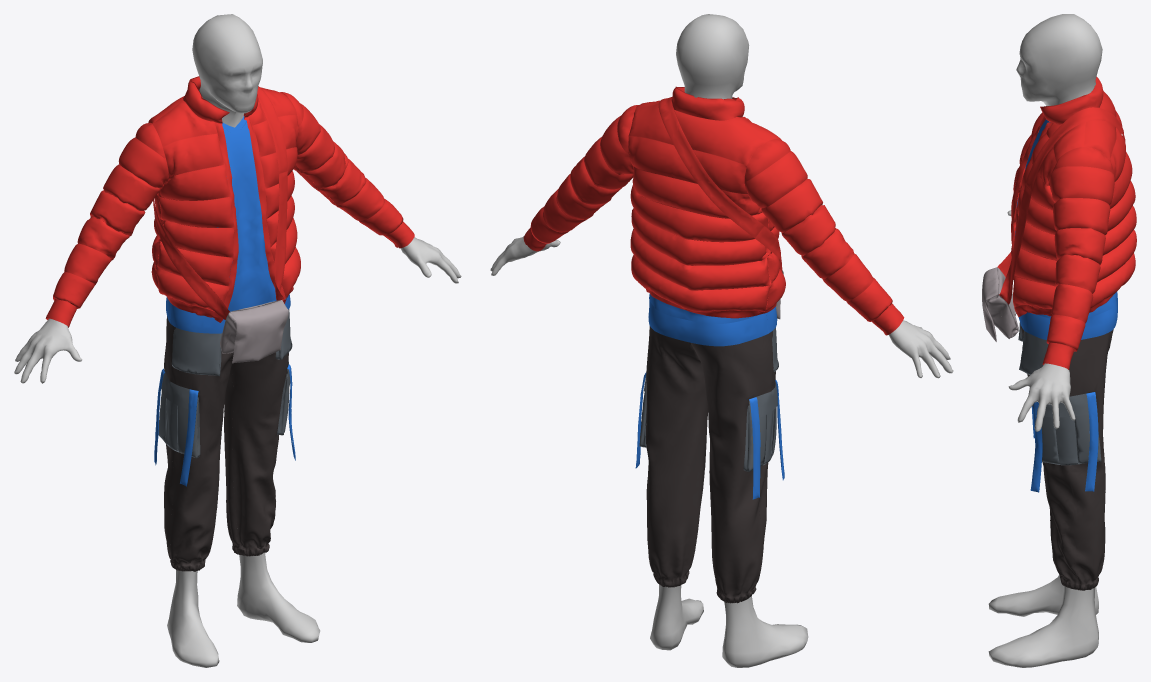
Rendered from final_studio_men.glb.
The picture shows the model from 3 angles, left to right: view 1: azimuth 30°, elevation 25°; view 2: azimuth 150°, elevation 25°; view 3: azimuth 270°, elevation 25°; orthographic projection. The views are drawn at different scales.
Visible parts, largest first — view 1: studio_men; view 2: studio_men; view 3: studio_men.
Part boxes in pixels (x1,y1,x2,y2): studio_men: [14, 14, 461, 667]; studio_men: [490, 14, 953, 667]; studio_men: [982, 14, 1136, 667].
Size of the model in its own units: 7.48 by 9.93 by 2.25.
Materials: 2 (2 with a texture image).
